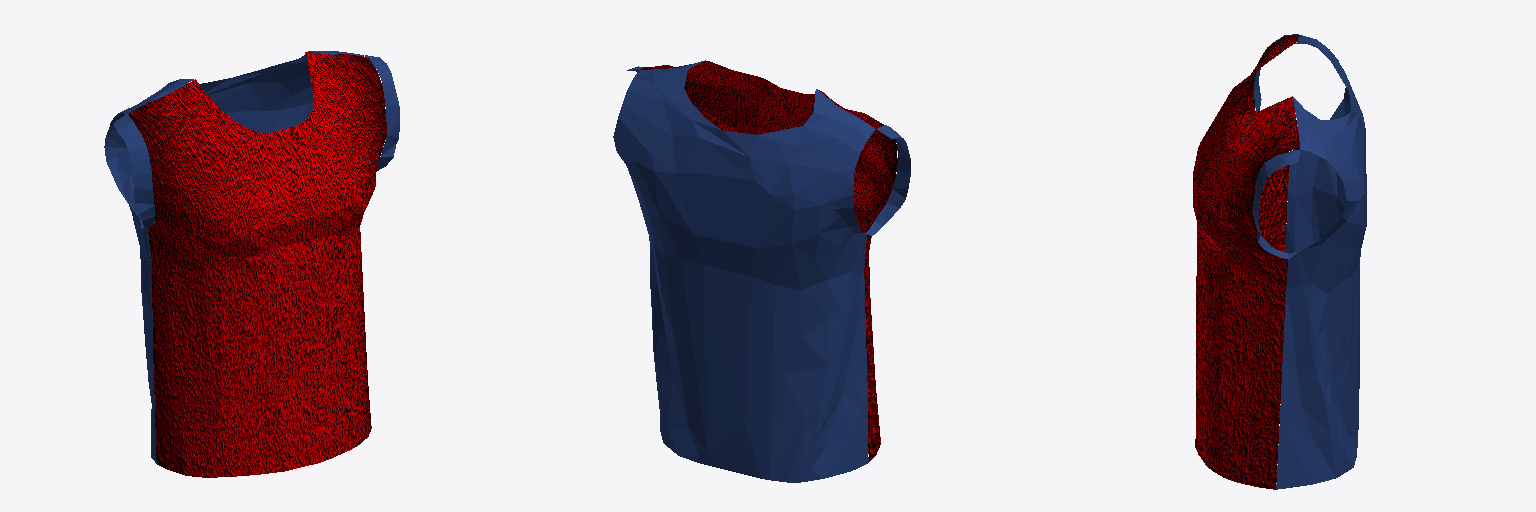
3 views of the same model, side by side, from view 1: azimuth 30°, elevation 25°; view 2: azimuth 150°, elevation 25°; view 3: azimuth 270°, elevation 25° (orthographic).
Parts seen in each view (by area): view 1: T_shirt.005; view 2: T_shirt.005; view 3: T_shirt.005.
Boxes of the visible parts, x1,y1,x2,y2 form: T_shirt.005: [104, 51, 399, 477]; T_shirt.005: [613, 60, 910, 482]; T_shirt.005: [1193, 34, 1366, 489].
Bounding box in the file's own units: 0.2935 × 0.3892 × 0.1639.
2 materials, 1 textured.